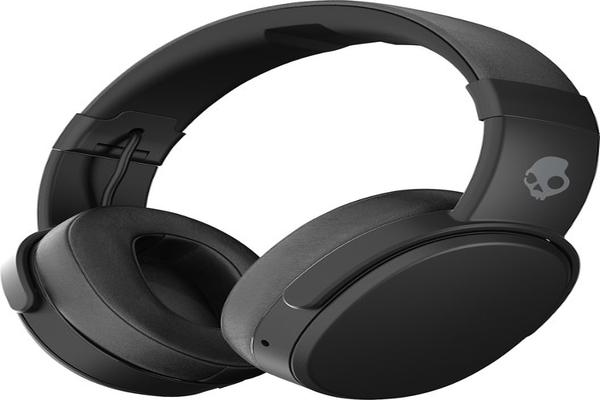headphone: (7, 7, 600, 388)
